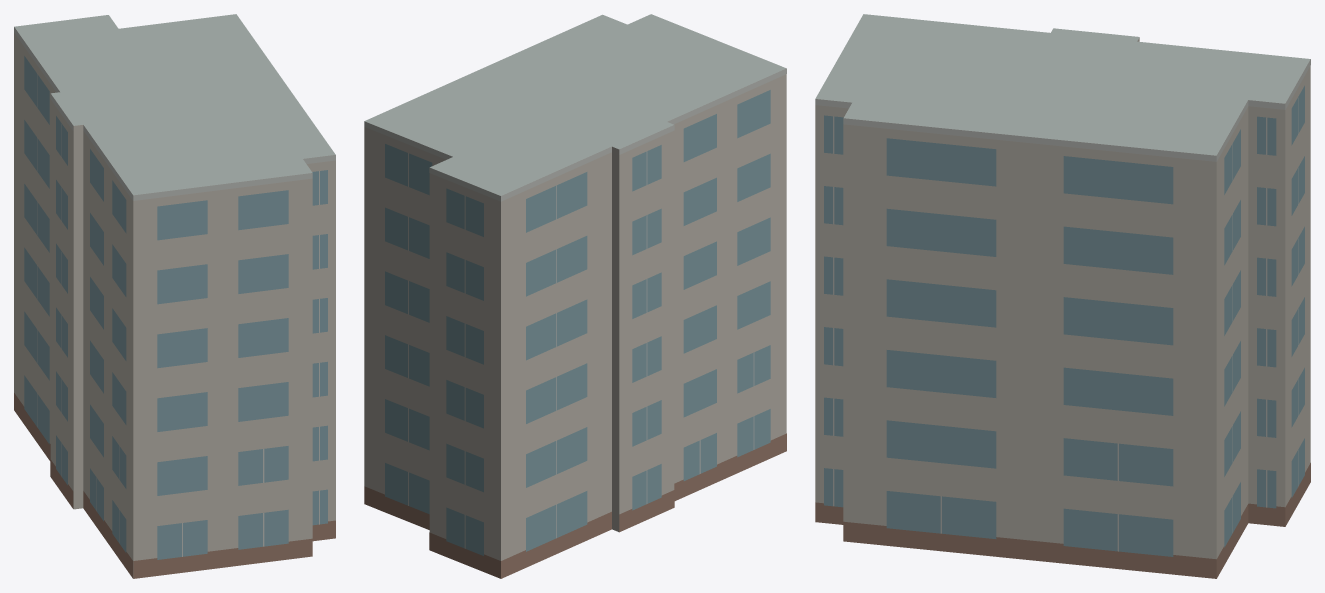
Rendered from survey-upis-32871801.glb.
3 renders of one model, left to right at view 1: azimuth 30°, elevation 25°; view 2: azimuth 150°, elevation 25°; view 3: azimuth 270°, elevation 25°, orthographic. The views are drawn at different scales.
Parts seen in each view (by area): view 1: survey-upis-32871801.tmp; view 2: survey-upis-32871801.tmp; view 3: survey-upis-32871801.tmp.
Boxes of the visible parts, x1,y1,x2,y2 form: survey-upis-32871801.tmp: [14, 14, 335, 578]; survey-upis-32871801.tmp: [364, 14, 786, 578]; survey-upis-32871801.tmp: [815, 14, 1310, 578].
Bounding box in the file's own units: 11.93 × 16.6 × 17.63.
